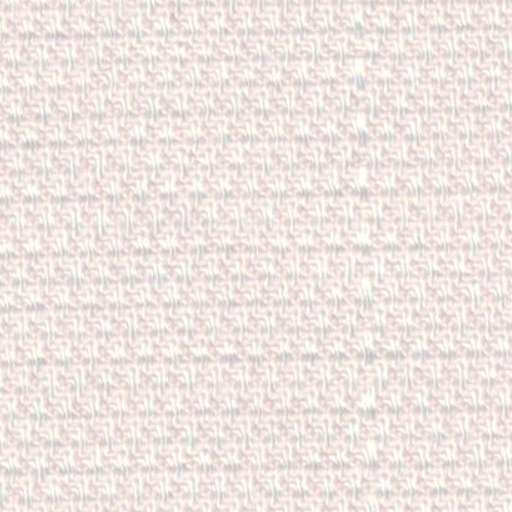TuoSha: (317, 16, 417, 490)
